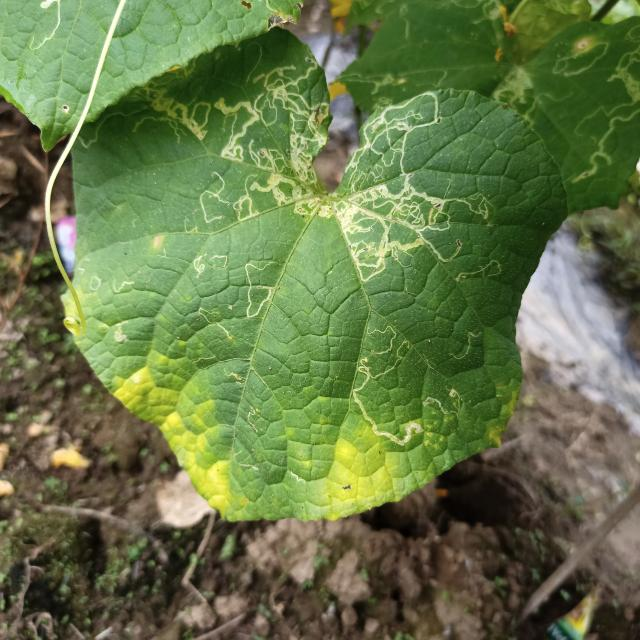disease_cucumber: (103, 340, 251, 530), (286, 414, 453, 516)
